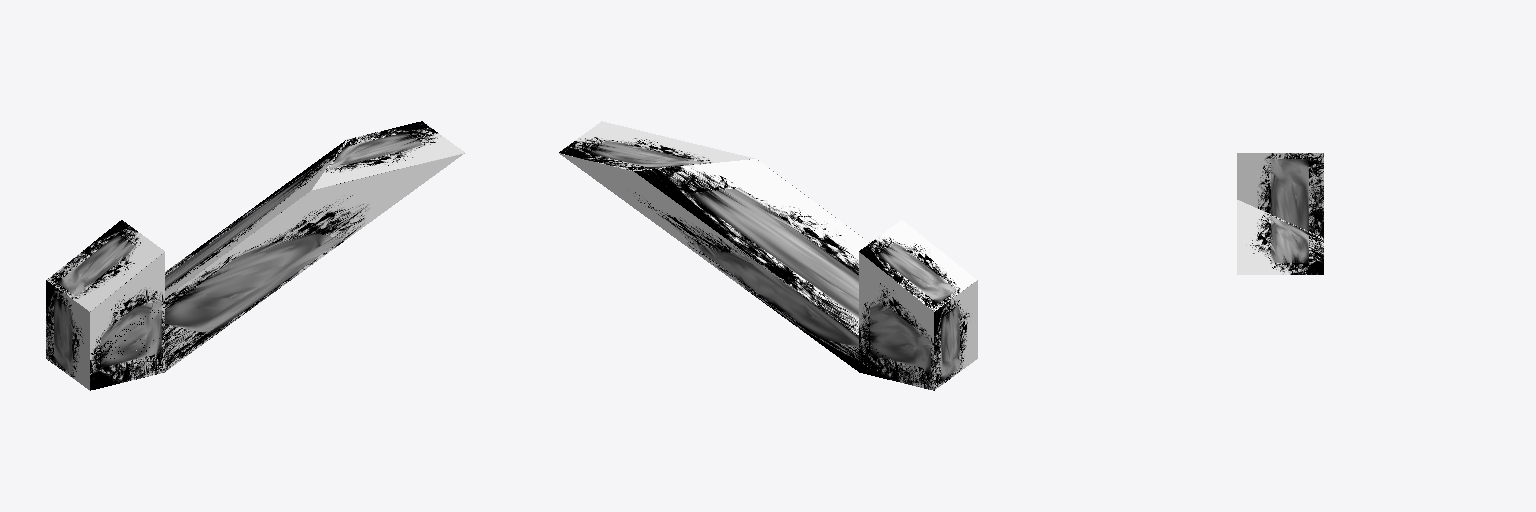
3 views of the same model, side by side, from view 1: azimuth 30°, elevation 25°; view 2: azimuth 150°, elevation 25°; view 3: azimuth 270°, elevation 25° (orthographic).
Visible parts, largest first — view 1: Box004, Box003; view 2: Box004, Box003; view 3: Box003, Box004.
Part boxes in pixels (left/top/right/bottom): Box004: left=91, top=121, right=464, bottom=371; Box003: left=46, top=220, right=164, bottom=390; Box004: left=559, top=121, right=948, bottom=384; Box003: left=859, top=220, right=977, bottom=390; Box003: left=1237, top=153, right=1323, bottom=236; Box004: left=1237, top=200, right=1323, bottom=274.
Size of the model in its own units: 289 by 108 by 58.05.
Materials: 1 (1 with a texture image).